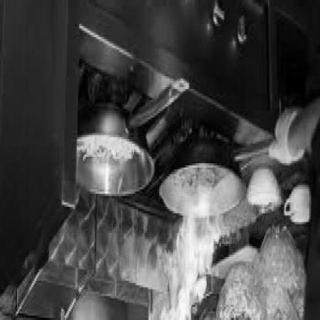Fire: (152, 194, 228, 320)
